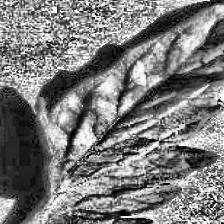leaf mold: (37, 0, 224, 224)
